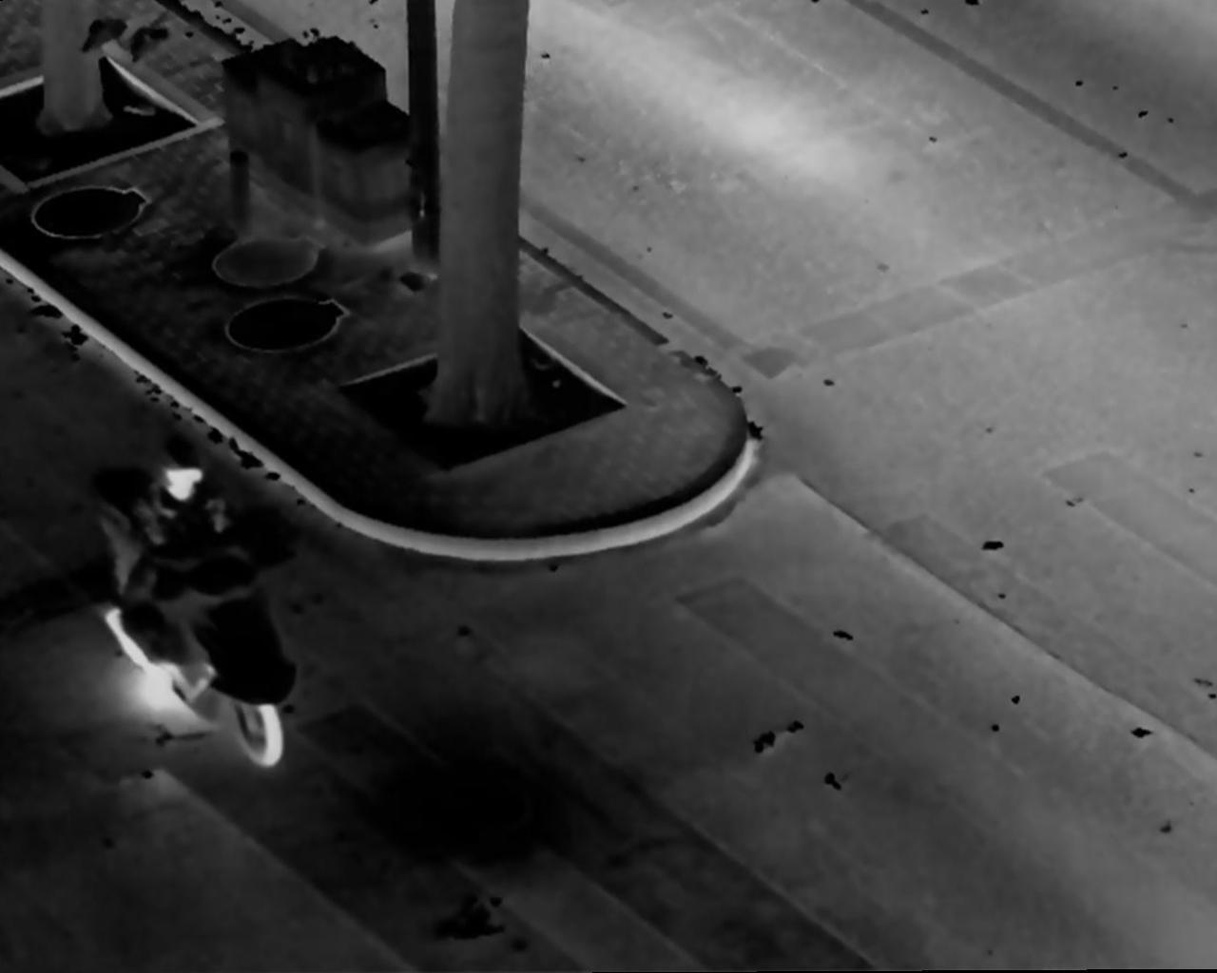person: (103, 454, 273, 707)
